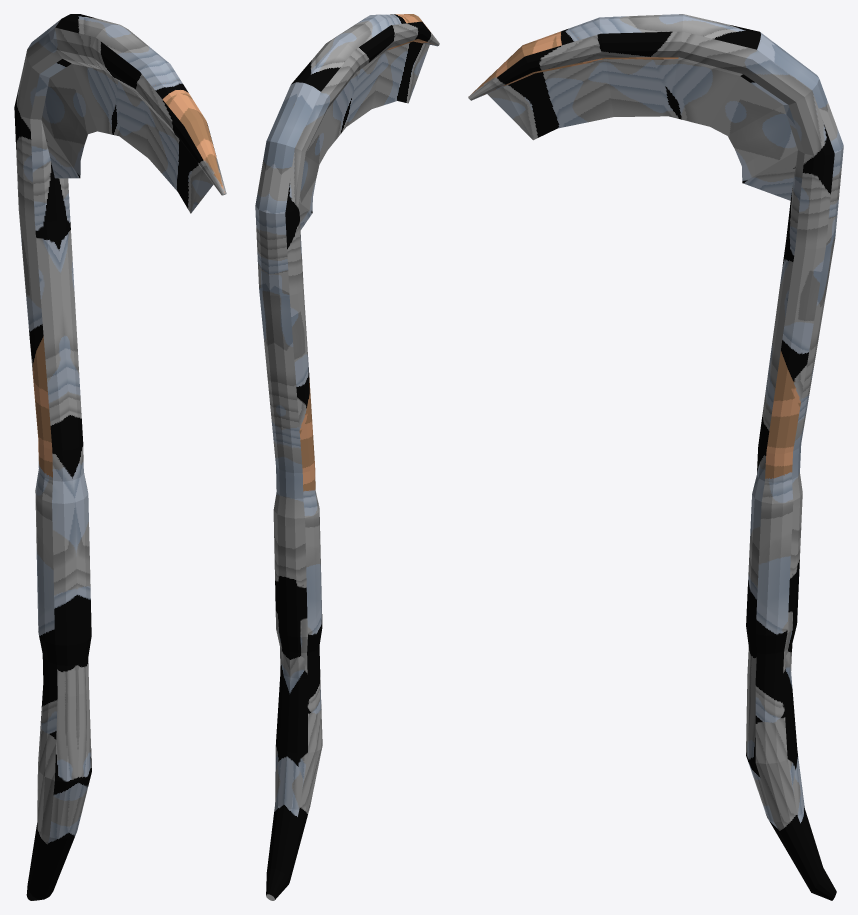
File: scyze.fbx
3 renders of one model, left to right at view 1: azimuth 30°, elevation 25°; view 2: azimuth 150°, elevation 25°; view 3: azimuth 270°, elevation 25°, orthographic. The views are drawn at different scales.
Visible parts, largest first — view 1: Cylinder; view 2: Cylinder; view 3: Cylinder.
Part boxes in pixels (x1,y1,x2,y2): Cylinder: [14, 14, 226, 900]; Cylinder: [255, 14, 439, 900]; Cylinder: [468, 14, 843, 900].
Bounding box in the file's own units: 61.16 × 1181 × 455.
